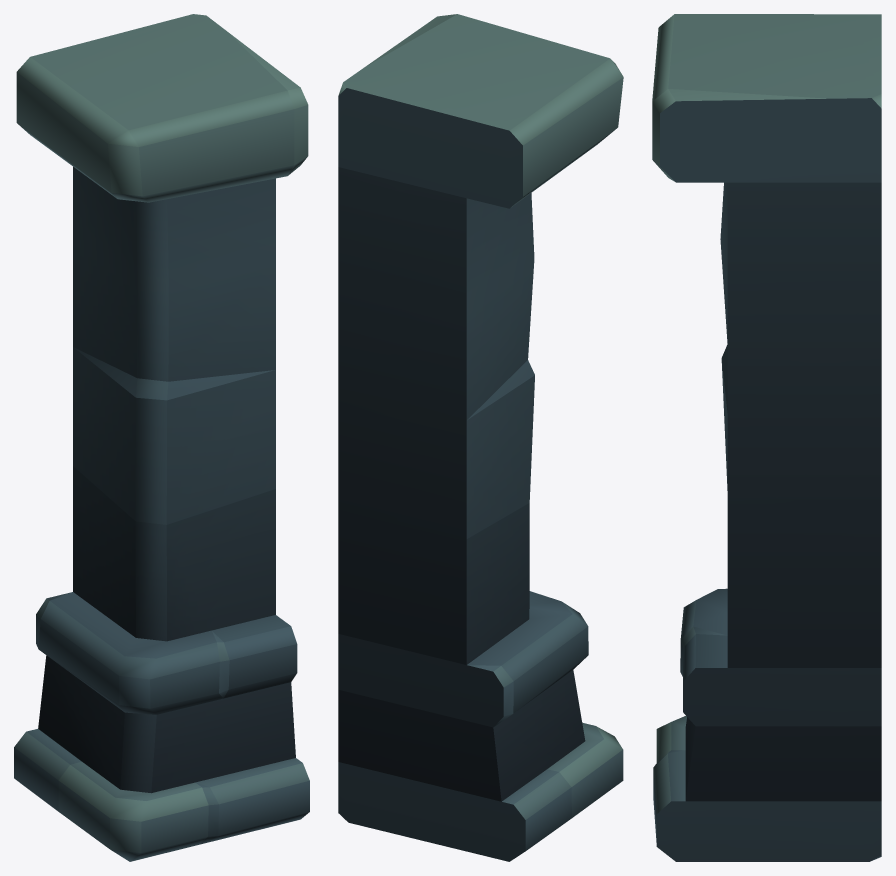
File: wall_corner_convex.fbx
The picture shows the model from 3 angles, left to right: view 1: azimuth 30°, elevation 25°; view 2: azimuth 150°, elevation 25°; view 3: azimuth 270°, elevation 25°; orthographic projection. The views are drawn at different scales.
Visible parts, largest first — view 1: wall_corner_convex; view 2: wall_corner_convex; view 3: wall_corner_convex.
Boxes of the visible parts, box(x1,y1,x2,y2) form: wall_corner_convex: box(14, 14, 309, 861); wall_corner_convex: box(338, 14, 623, 861); wall_corner_convex: box(652, 14, 881, 861).
Size of the model in its own units: 111 by 410 by 112.
